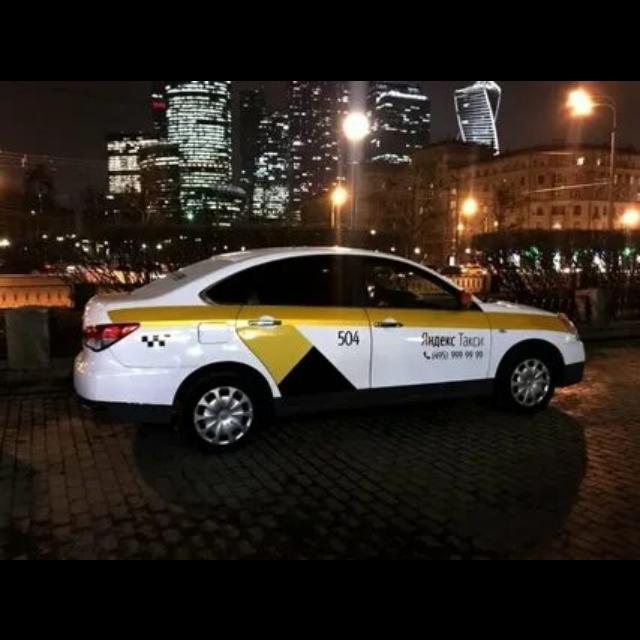taxi: (72, 243, 587, 451)
